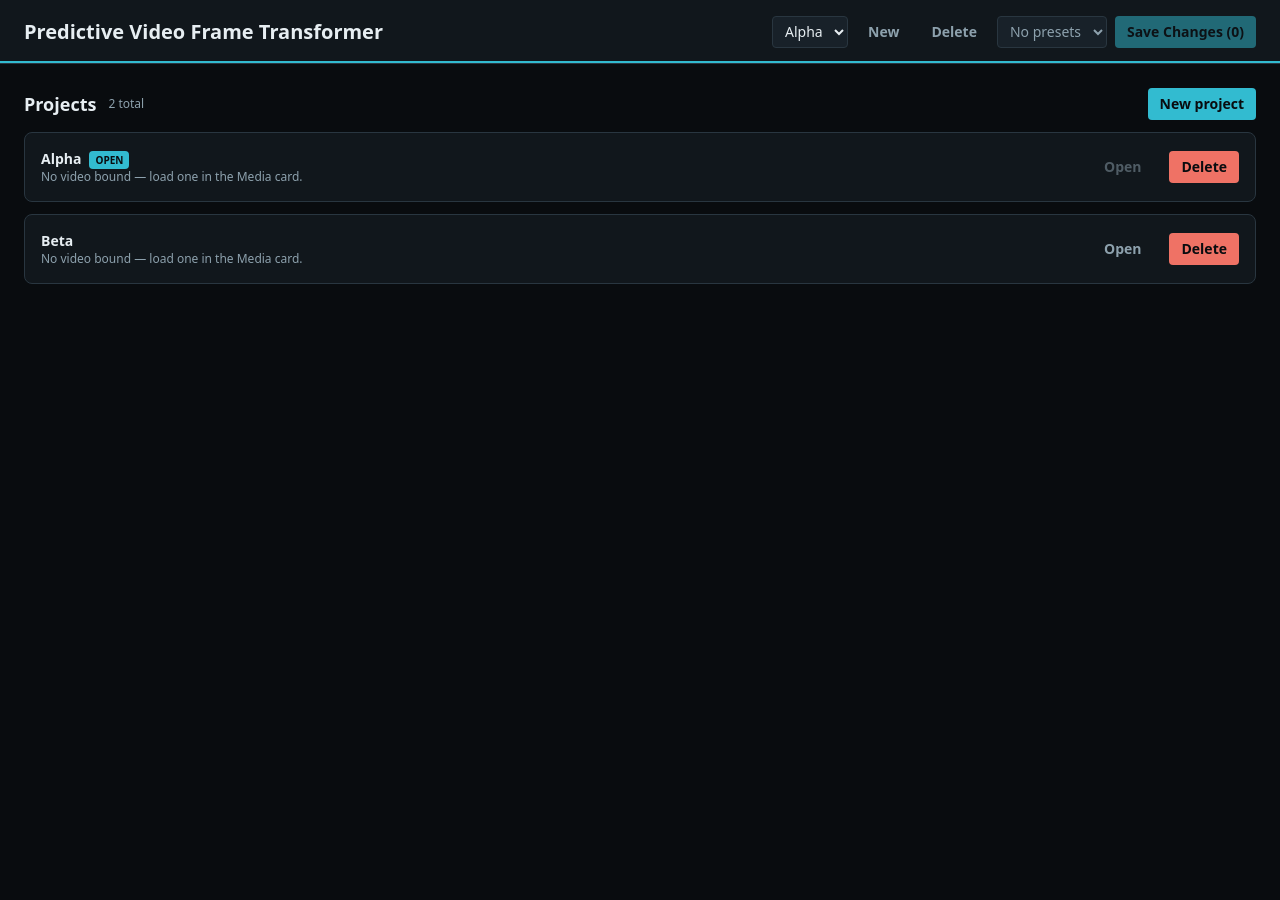
Scenario: projects overview › deletes only after confirmation, and never leaves nothing open
Expected: the number of elements with test id "project-row" is 2, [24,132,1256,202]; [24,214,1256,284]
Click the button "Delete" in the row of "Alpha" at x=1204, y=167, box [1170,151,1239,183]
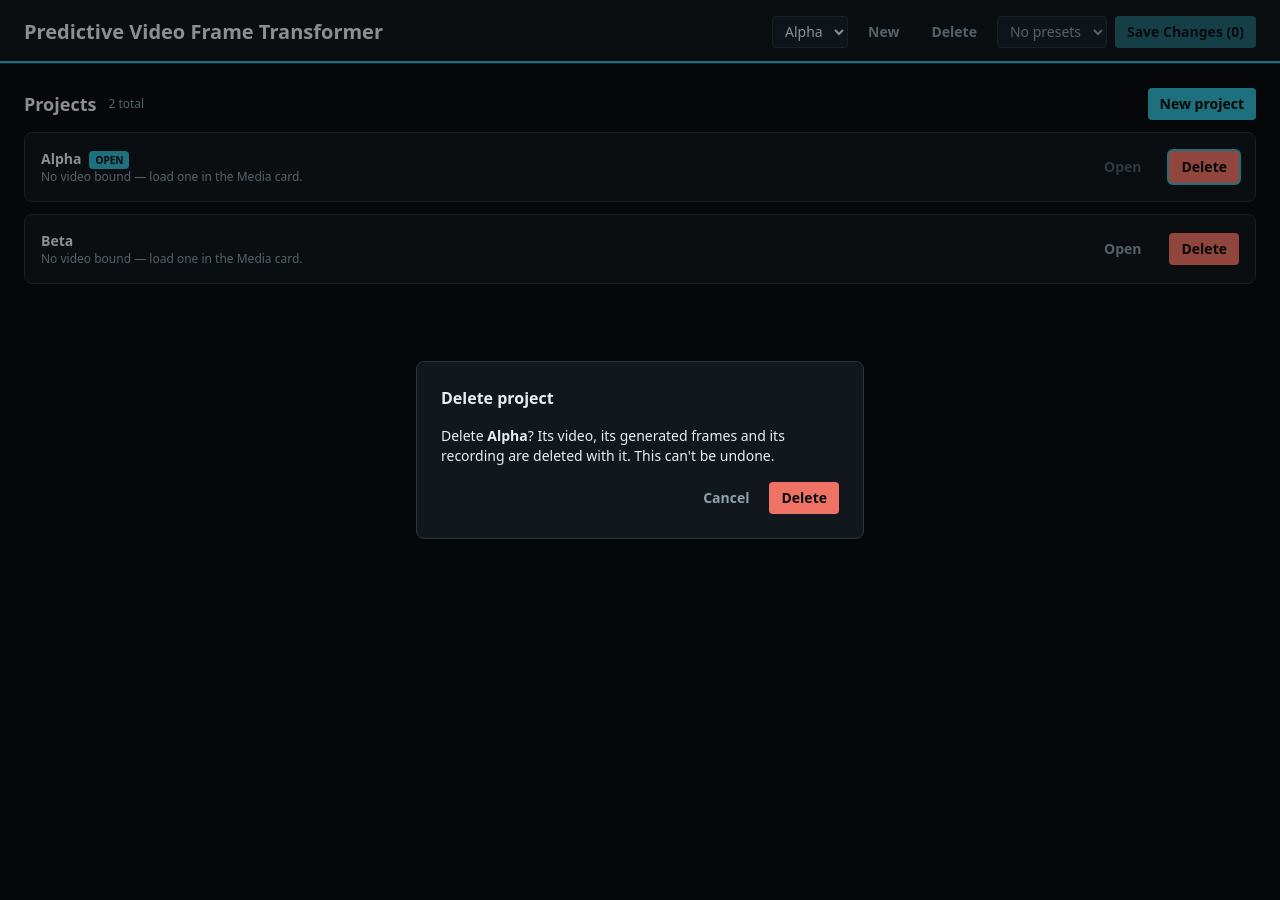
Result: the element with test id "project-delete-body" shows "Alpha" at [487,426,528,445]
Click the button with test id "btn-confirm-delete-project" at x=804, y=498, box [770,482,839,514]
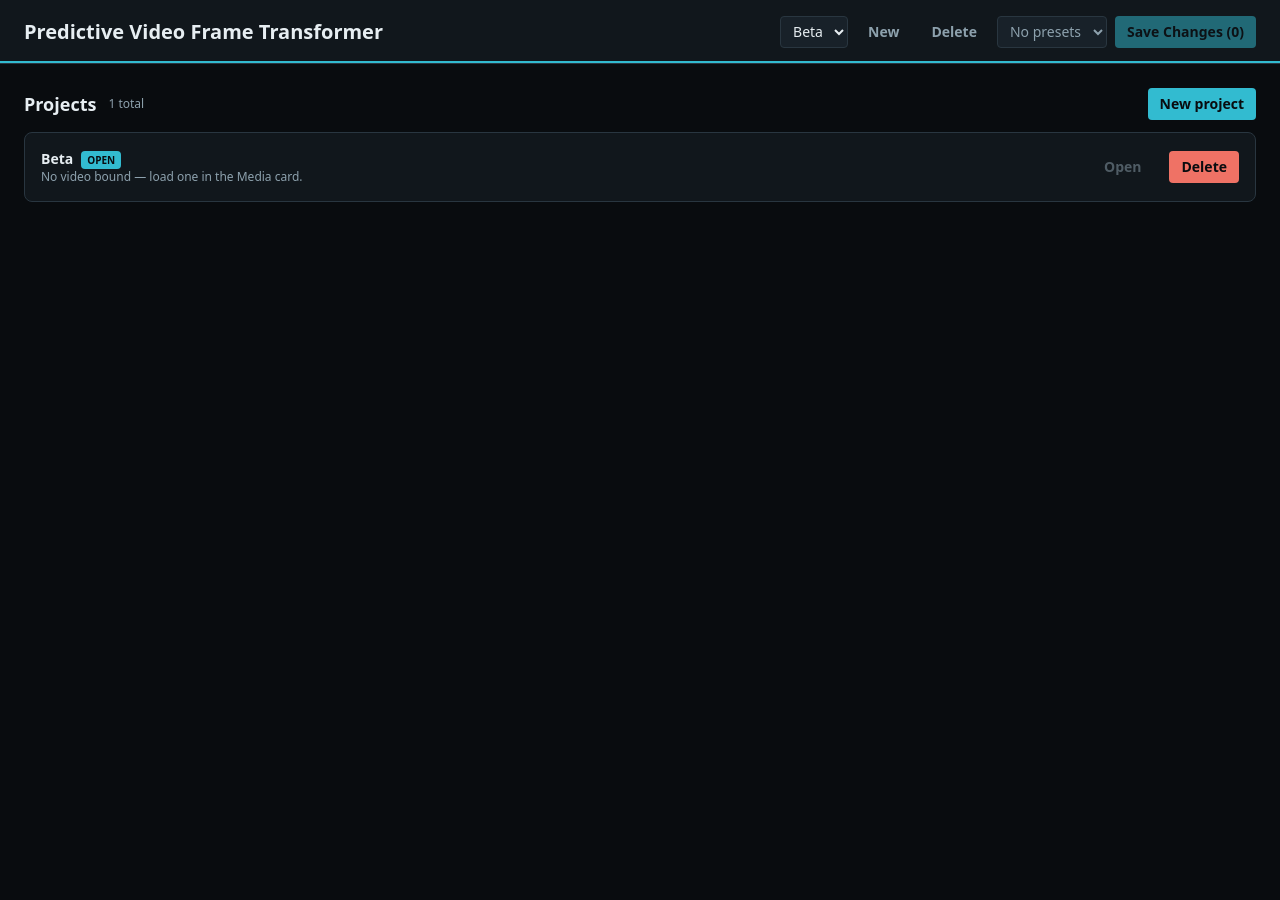
Result: the number of elements with test id "project-row" is 1 at [24,132,1256,202]
Result: the dropdown named "Project" shows "Beta" at [780,16,848,48]
